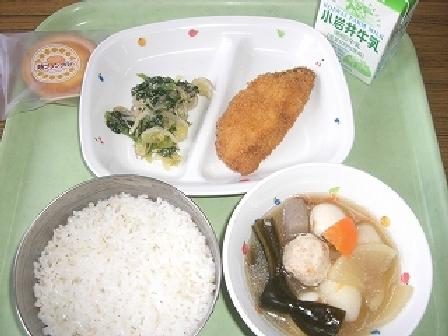Milk: (305, 3, 423, 71)
Rice: (5, 175, 221, 335)
Salad: (100, 72, 199, 160)
cutlet: (214, 54, 324, 172)
pastry: (9, 23, 103, 104)
vegetable soup: (227, 171, 421, 331)
